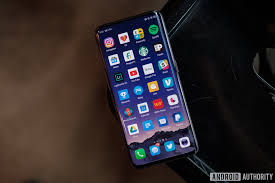oppo: (94, 12, 201, 171)
